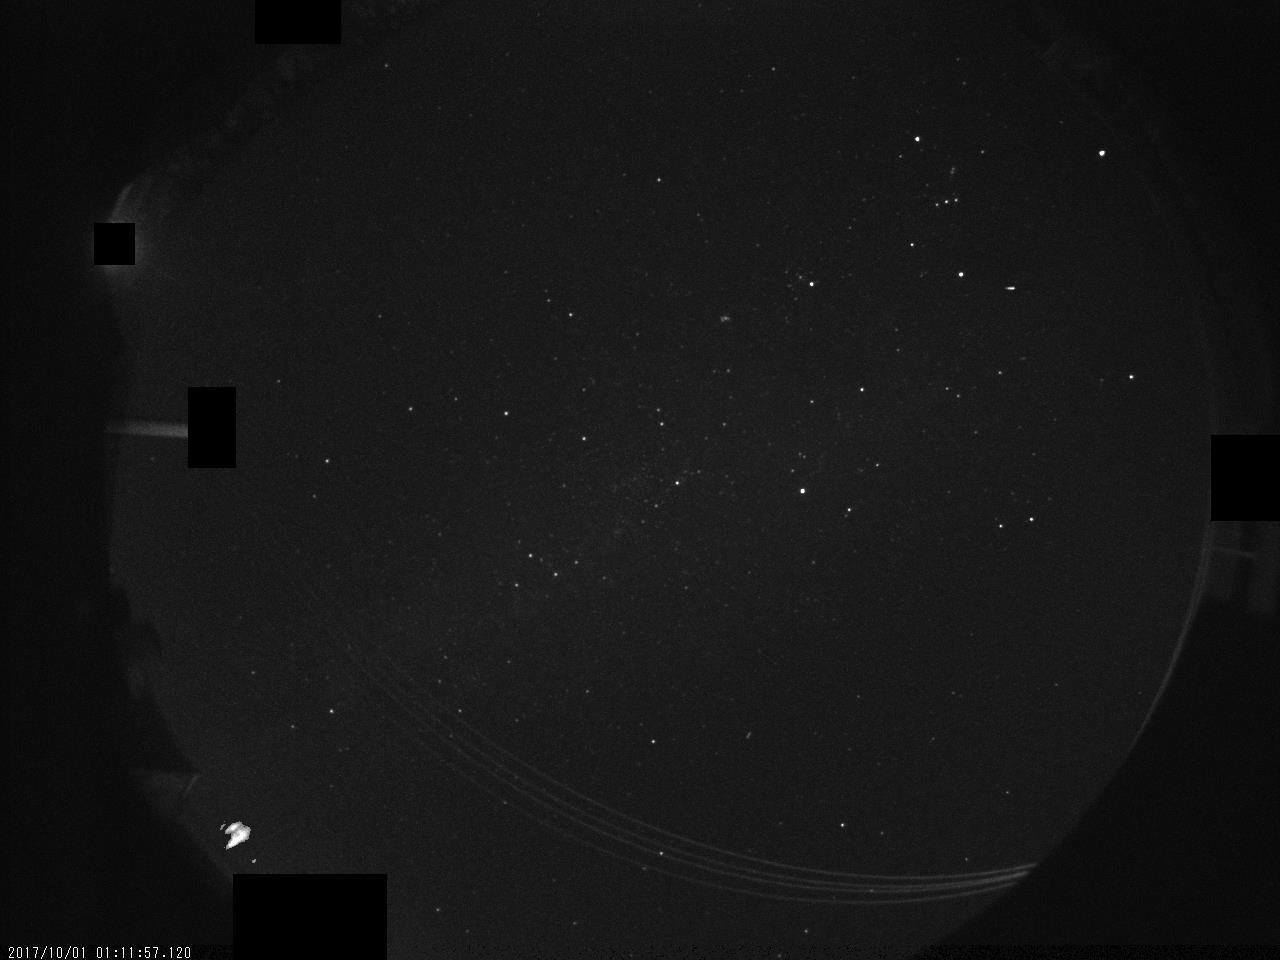TLE: (200, 804, 272, 877)
